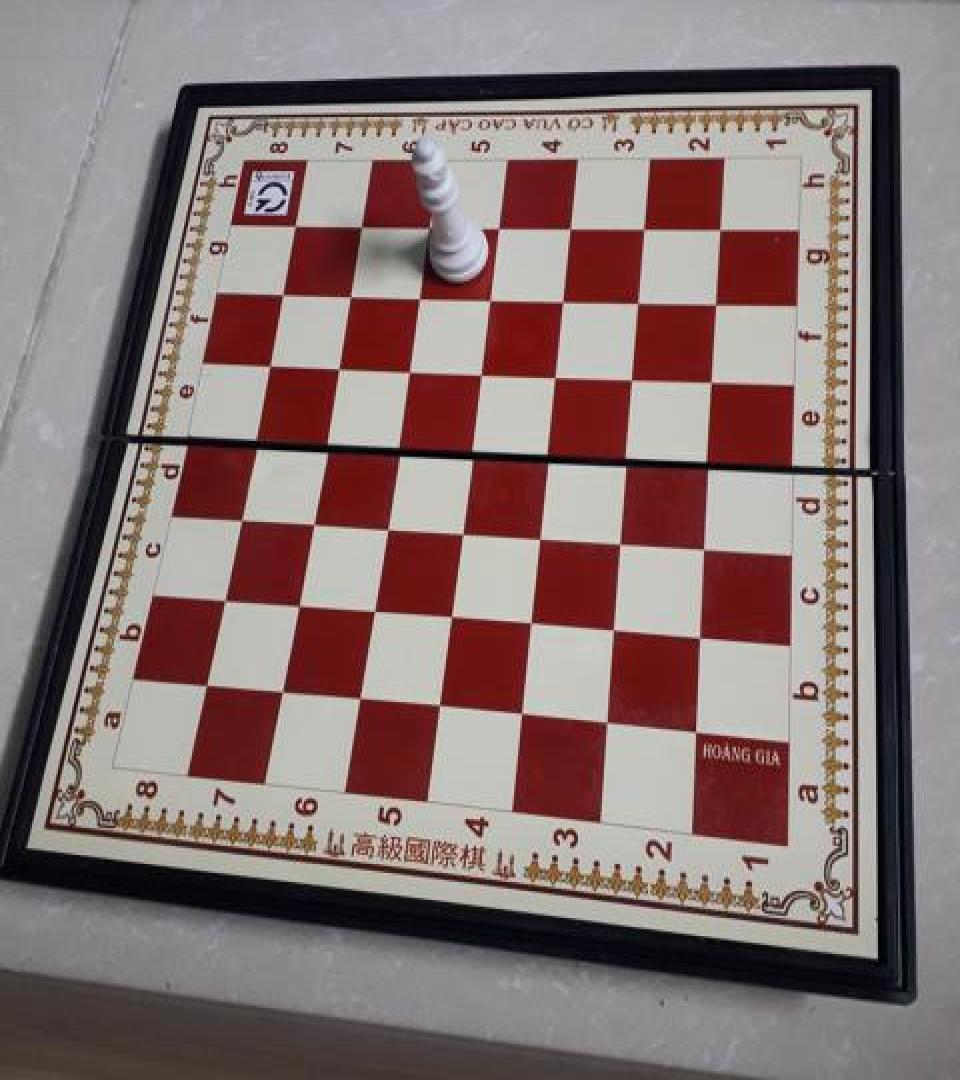xcorner: (191, 666, 219, 698), (427, 688, 455, 720), (510, 696, 538, 728), (596, 704, 624, 736), (685, 712, 713, 744), (207, 580, 235, 612), (282, 586, 310, 618), (438, 598, 466, 630), (520, 604, 548, 636), (223, 498, 251, 530), (372, 507, 400, 539), (449, 513, 477, 545), (528, 517, 556, 549), (610, 523, 638, 555), (310, 424, 338, 456), (383, 427, 411, 459), (536, 435, 564, 467), (698, 442, 726, 474), (253, 346, 281, 378), (395, 351, 423, 383), (468, 354, 496, 386), (702, 362, 730, 394), (405, 279, 433, 311), (478, 280, 506, 312), (552, 282, 580, 314), (628, 283, 656, 315), (280, 208, 308, 240), (347, 209, 375, 241), (416, 209, 444, 241), (486, 210, 514, 242), (559, 210, 587, 242), (633, 211, 661, 243), (709, 211, 737, 243), (267, 674, 295, 705), (346, 681, 374, 712), (359, 592, 387, 623), (603, 611, 631, 642), (690, 618, 718, 649), (296, 503, 324, 534), (694, 528, 722, 559), (238, 421, 266, 452), (459, 431, 487, 462), (616, 439, 644, 470), (323, 349, 351, 380), (544, 357, 572, 388), (622, 359, 650, 390), (266, 276, 294, 307), (335, 278, 363, 309), (706, 285, 734, 316)
